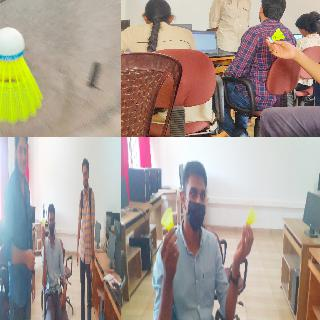shuttlecock: (0, 27, 45, 124), (160, 206, 173, 230), (268, 28, 284, 42), (246, 206, 256, 226), (43, 218, 45, 228)
